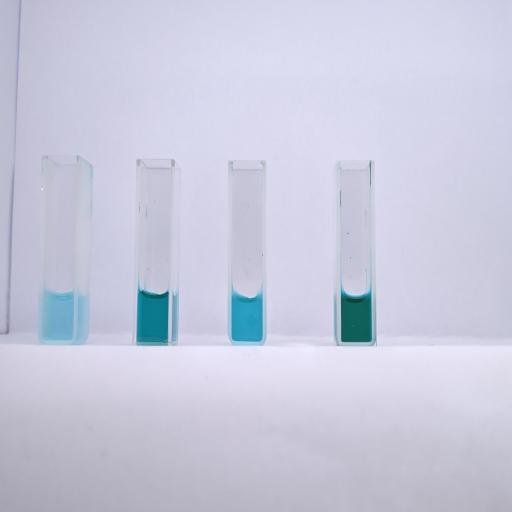cuvette: (36, 152, 82, 346), (333, 158, 379, 347), (133, 155, 176, 347), (226, 158, 268, 346)
liquid: (41, 290, 74, 340), (341, 289, 372, 342), (138, 289, 168, 341), (232, 289, 262, 340)
